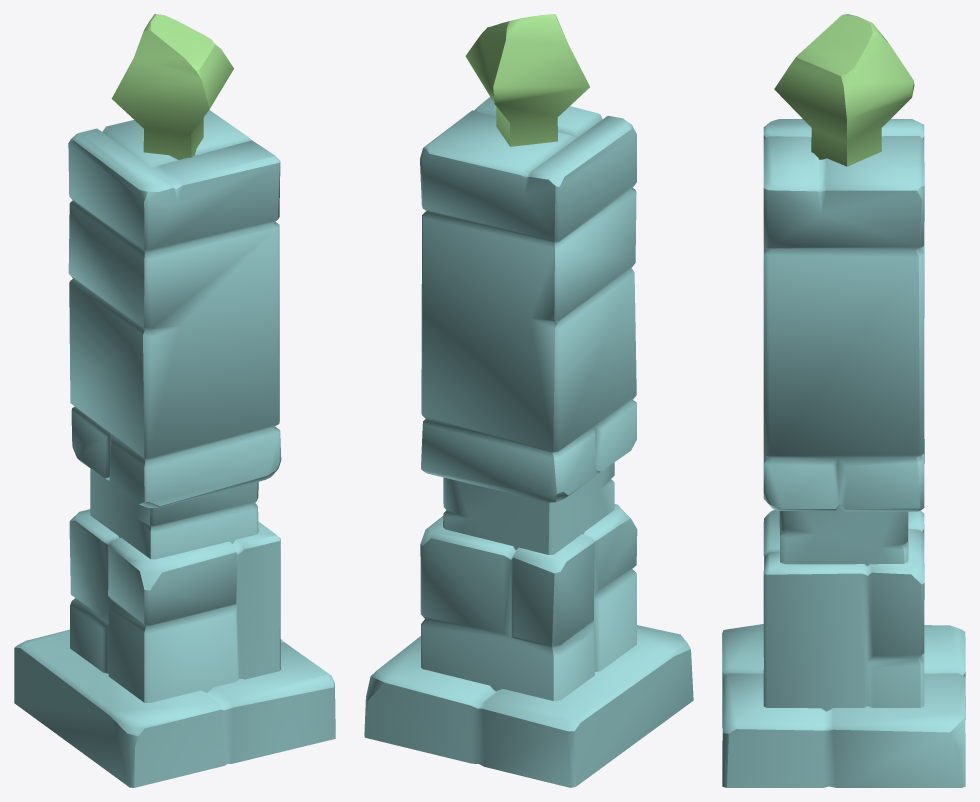
Rendered from SM_Fence_10.fbx.
The picture shows the model from 3 angles, left to right: view 1: azimuth 30°, elevation 25°; view 2: azimuth 150°, elevation 25°; view 3: azimuth 270°, elevation 25°; orthographic projection. The views are drawn at different scales.
Parts seen in each view (by area): view 1: SM_Fence_10; view 2: SM_Fence_10; view 3: SM_Fence_10.
Boxes of the visible parts, <box> form: SM_Fence_10: <box>14,14,335,787</box>; SM_Fence_10: <box>364,14,693,787</box>; SM_Fence_10: <box>722,14,965,787</box>.
Size of the model in its own units: 41.77 by 135 by 41.75.
